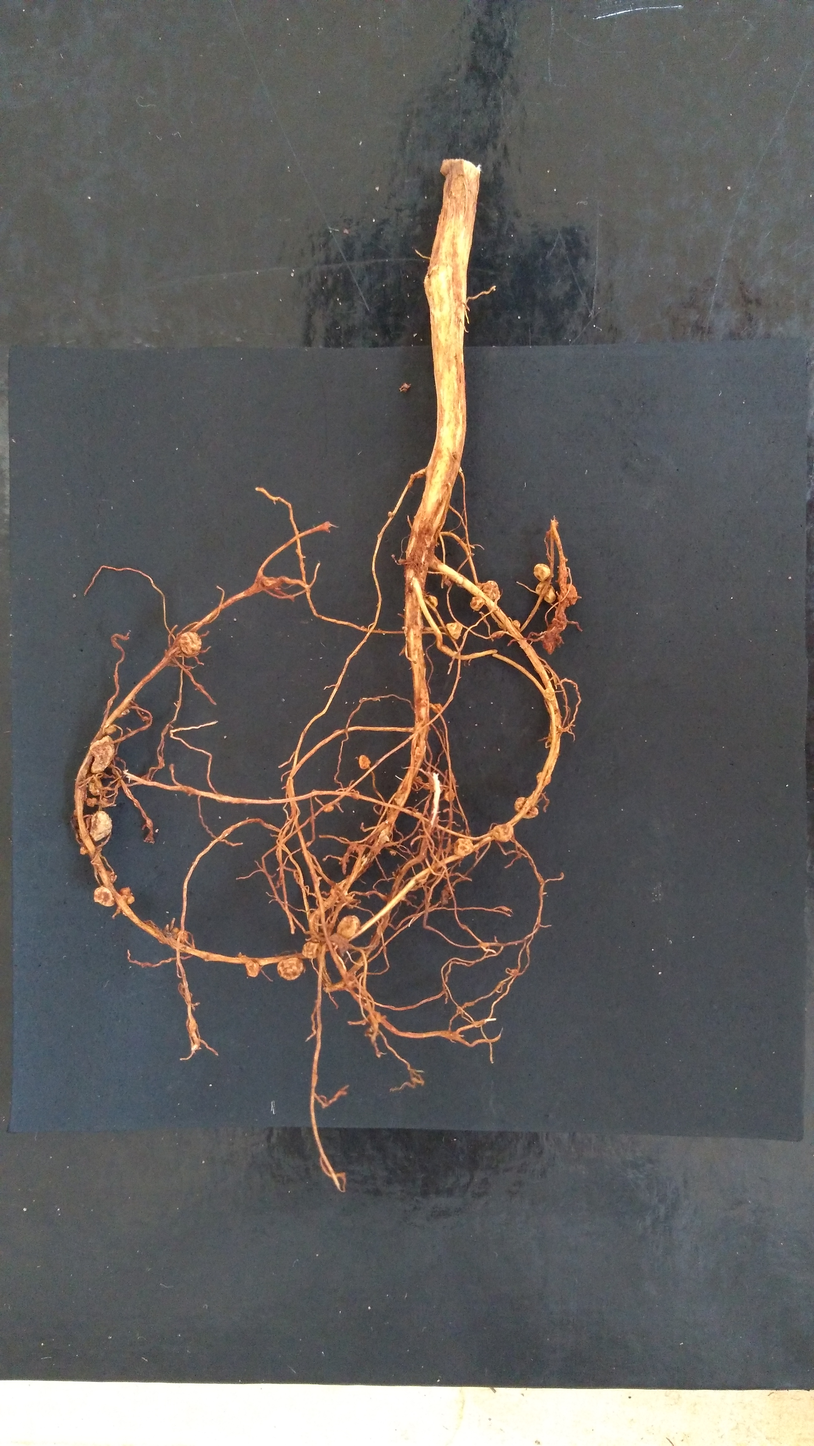nodule: (88, 735, 115, 774), (89, 810, 112, 842), (277, 957, 305, 981), (178, 631, 202, 657), (86, 770, 108, 796), (337, 914, 360, 938), (475, 580, 500, 602), (514, 797, 538, 819), (536, 581, 556, 604), (93, 886, 115, 906), (559, 583, 577, 607), (492, 823, 514, 842), (412, 735, 427, 761), (543, 630, 559, 654), (454, 838, 475, 856), (302, 941, 322, 959), (85, 797, 115, 808), (533, 564, 552, 581), (554, 610, 567, 634), (446, 622, 463, 640), (246, 958, 261, 978), (119, 887, 136, 904), (170, 927, 189, 942), (163, 924, 179, 941), (469, 596, 485, 612), (536, 771, 551, 786), (424, 594, 438, 609), (394, 789, 407, 805), (103, 721, 117, 735), (358, 755, 371, 769), (542, 687, 555, 701), (115, 706, 130, 718), (378, 829, 390, 842), (103, 869, 115, 881), (445, 789, 455, 802), (432, 703, 443, 712), (512, 619, 521, 629), (323, 803, 333, 812), (80, 844, 87, 854), (360, 854, 368, 862), (388, 511, 393, 517)
